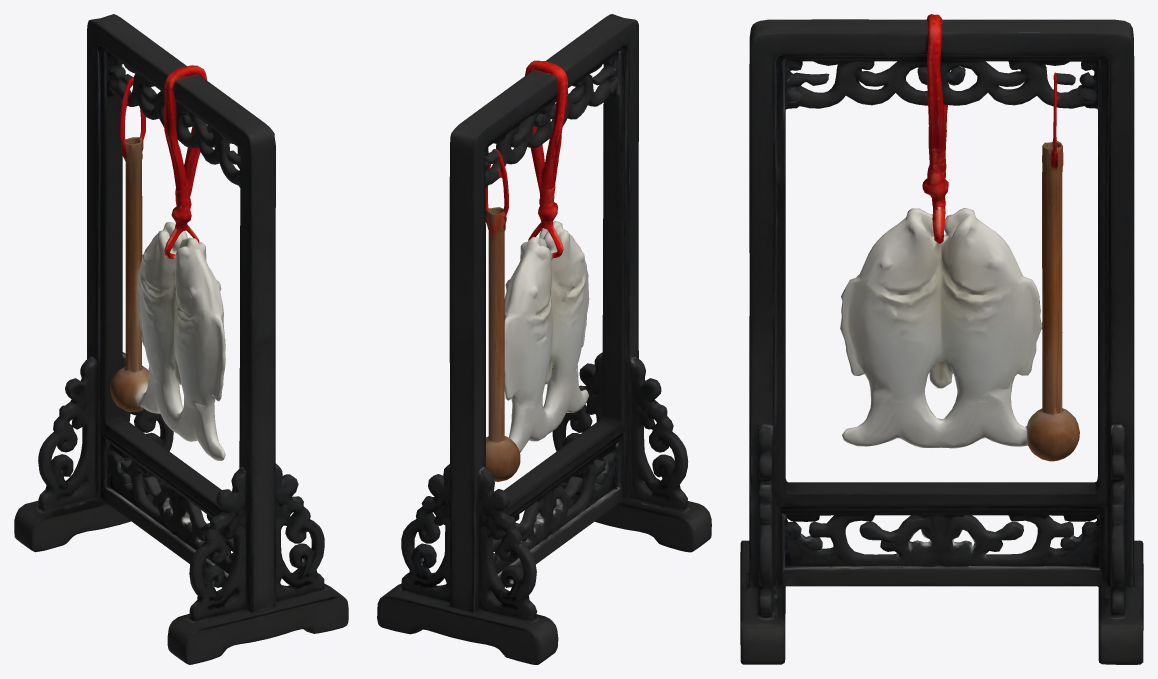
File: f_qing.glb
3 renders of one model, left to right at view 1: azimuth 30°, elevation 25°; view 2: azimuth 150°, elevation 25°; view 3: azimuth 270°, elevation 25°, orthographic. The views are drawn at different scales.
Parts seen in each view (by area): view 1: tripo_node_74f92dd5-9204-46f6-b3bc-004bfc7c9d5e; view 2: tripo_node_74f92dd5-9204-46f6-b3bc-004bfc7c9d5e; view 3: tripo_node_74f92dd5-9204-46f6-b3bc-004bfc7c9d5e.
Part boxes in pixels (x1,y1,x2,y2): tripo_node_74f92dd5-9204-46f6-b3bc-004bfc7c9d5e: [14, 14, 348, 664]; tripo_node_74f92dd5-9204-46f6-b3bc-004bfc7c9d5e: [377, 14, 711, 664]; tripo_node_74f92dd5-9204-46f6-b3bc-004bfc7c9d5e: [740, 14, 1143, 664].
Bounding box in the file's own units: 0.3317 × 0.9999 × 0.6044.
Materials: 1 (1 with a texture image).
